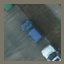car: (19, 18, 43, 46)
